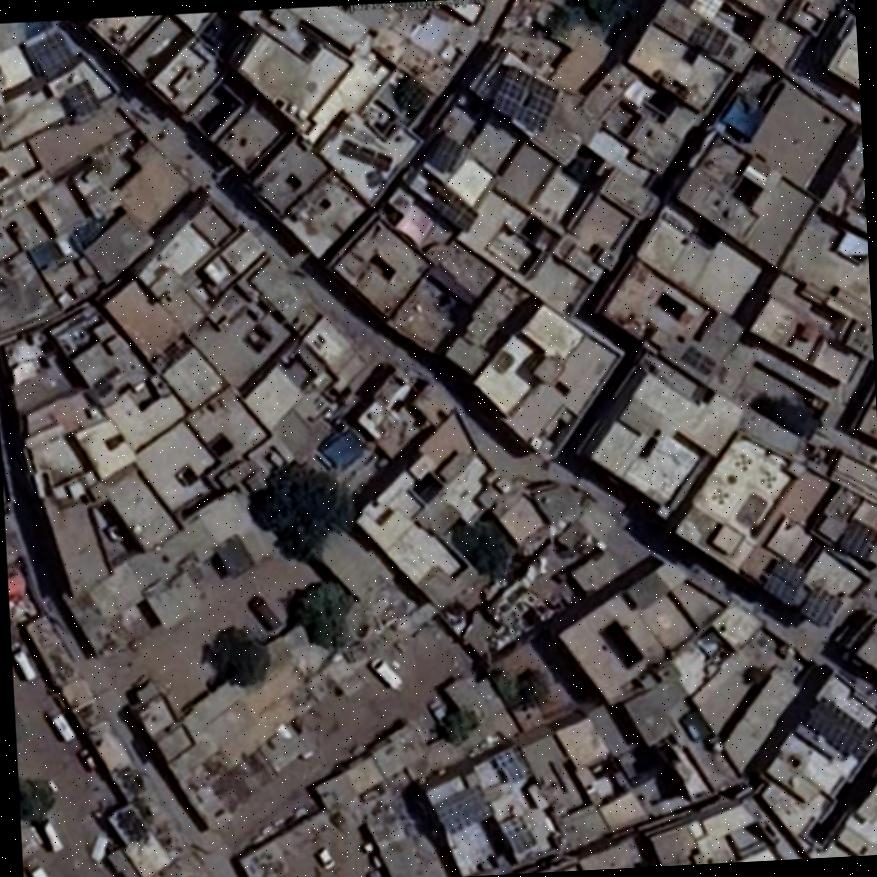Solarpanel: (805, 695, 877, 761), (493, 66, 559, 131), (431, 785, 491, 833), (30, 30, 73, 78), (763, 559, 805, 606), (799, 586, 841, 626), (838, 518, 877, 559), (338, 140, 391, 169), (64, 79, 99, 119)
